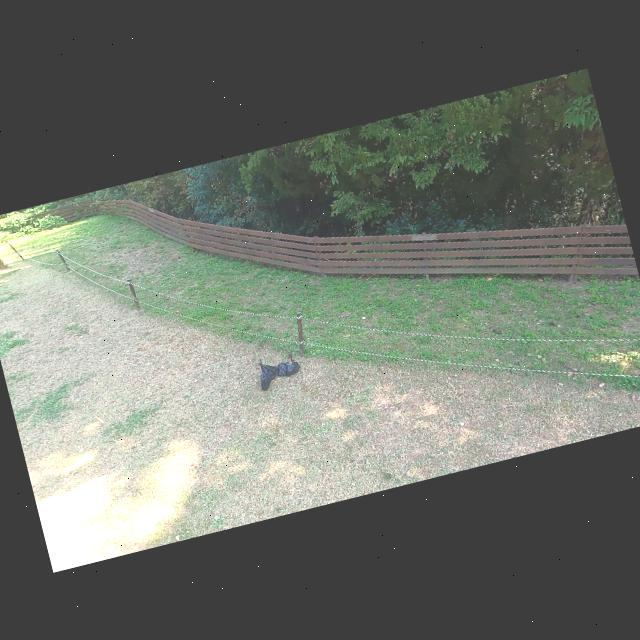trash: (256, 356, 278, 380), (286, 356, 302, 378), (258, 370, 274, 390), (276, 362, 290, 378)
